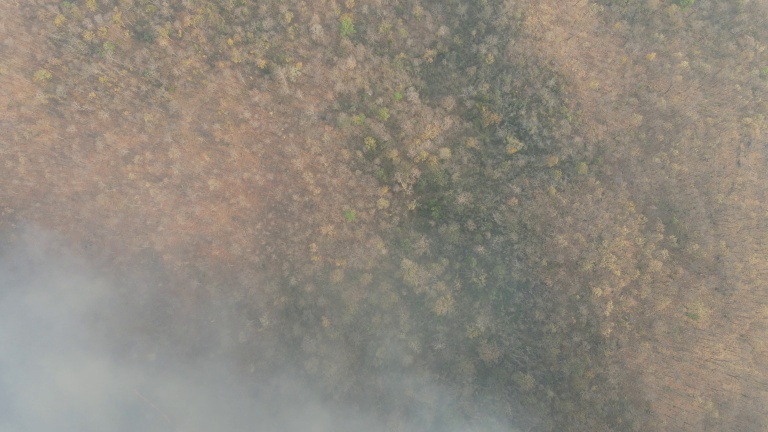fire: (121, 378, 169, 422)
smoke: (3, 231, 297, 432)
